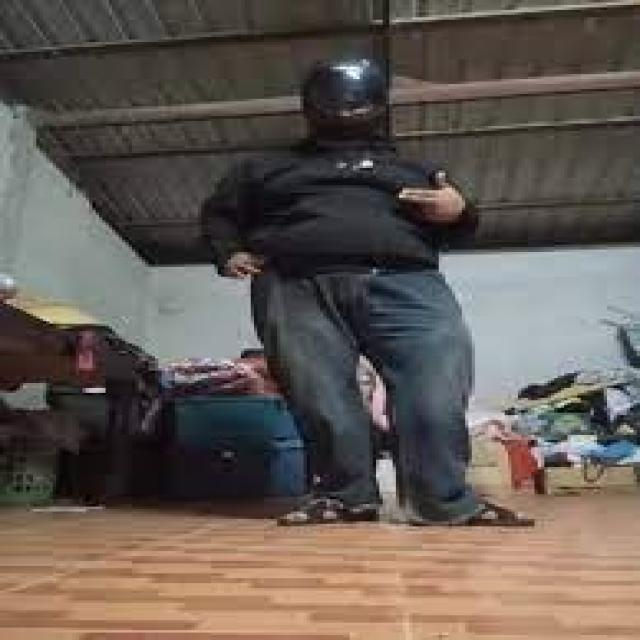helmet: (290, 51, 410, 142)
